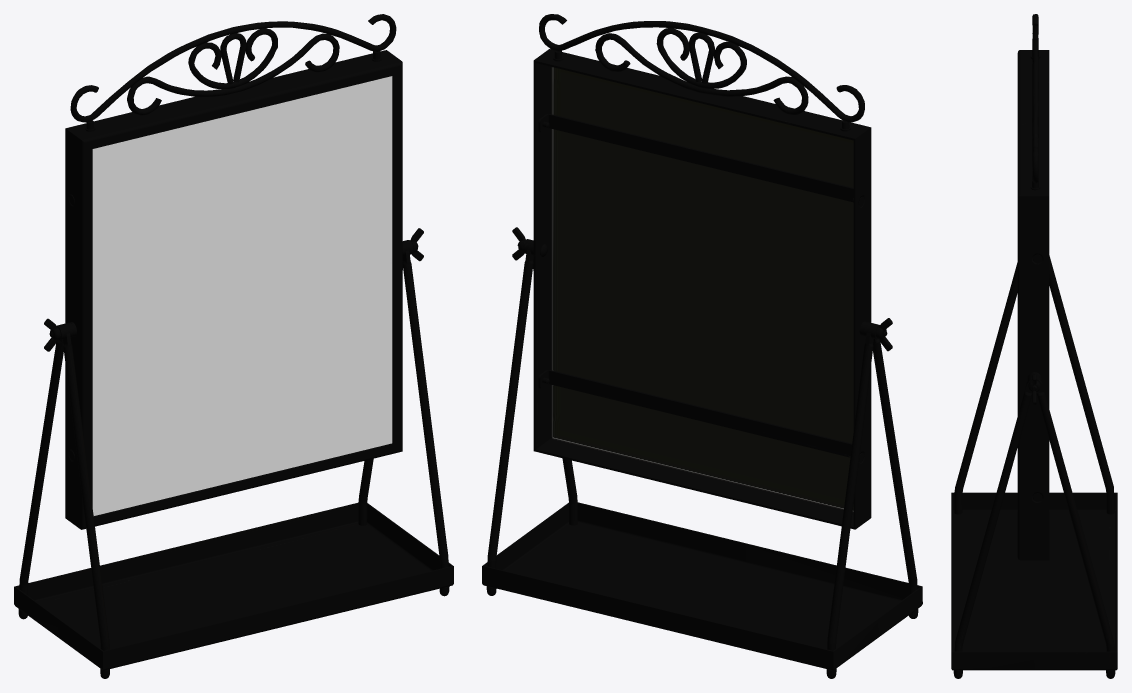
The model's file is karmsund_lustro_stoowe_00294979.glb.
3 views of the same model, side by side, from view 1: azimuth 30°, elevation 25°; view 2: azimuth 150°, elevation 25°; view 3: azimuth 270°, elevation 25° (orthographic). The views are drawn at different scales.
Visible parts, largest first — view 1: karmsund_lustro_stoowe_00294979; view 2: karmsund_lustro_stoowe_00294979; view 3: karmsund_lustro_stoowe_00294979.
Part boxes in pixels (bbox=[...]): karmsund_lustro_stoowe_00294979: bbox=[14, 14, 453, 678]; karmsund_lustro_stoowe_00294979: bbox=[482, 14, 922, 678]; karmsund_lustro_stoowe_00294979: bbox=[951, 14, 1117, 678].
Size of the model in its own units: 0.2951 by 0.4309 by 0.12.
Materials: 2 (2 with a texture image).
